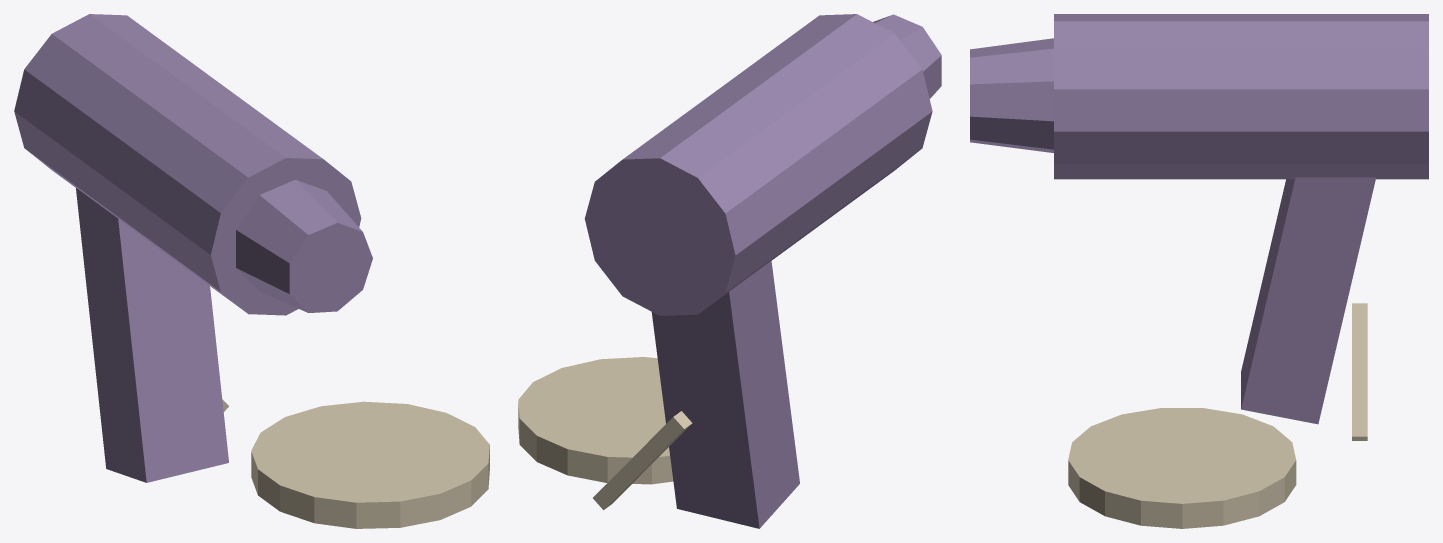
The model's file is hair-dryer.glb.
The picture shows the model from 3 angles, left to right: view 1: azimuth 30°, elevation 25°; view 2: azimuth 150°, elevation 25°; view 3: azimuth 270°, elevation 25°; orthographic projection. The views are drawn at different scales.
Visible parts, largest first — view 1: accent-lilac, paper; view 2: accent-lilac, paper; view 3: accent-lilac, paper.
Boxes of the visible parts, x1,y1,x2,y2 form: accent-lilac: (14, 14, 372, 482); paper: (222, 399, 489, 528); accent-lilac: (584, 14, 941, 528); paper: (518, 357, 692, 509); accent-lilac: (970, 14, 1428, 424); paper: (1068, 303, 1367, 528).
Size of the model in its own units: 0.185 by 0.217 by 0.2325.
